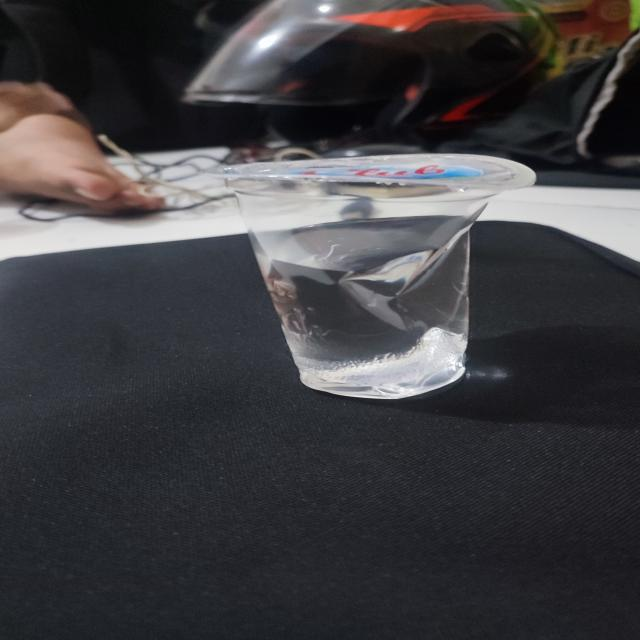air-gelas-rusak: (203, 149, 549, 400)
